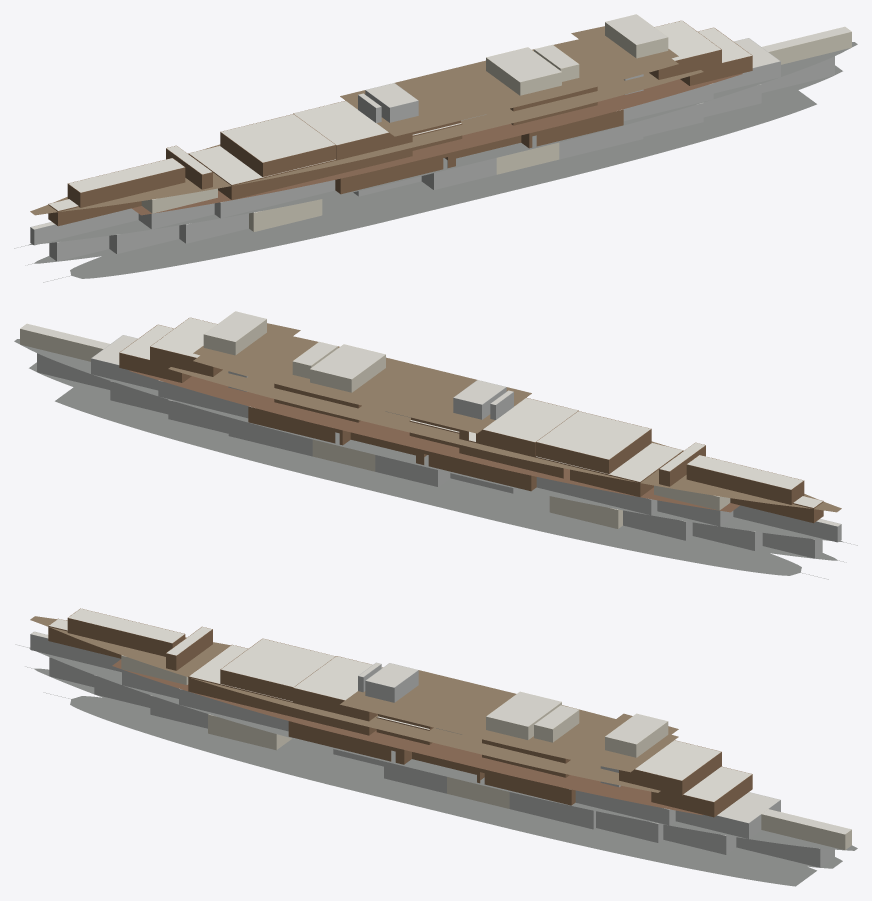
File: Interiors_Structure.glb
3 renders of one model, top to bottom at view 1: azimuth 30°, elevation 25°; view 2: azimuth 150°, elevation 25°; view 3: azimuth 330°, elevation 25°, orthographic.
Visible parts, largest first — view 1: Interior_Rooms, Interior_Floors; view 2: Interior_Rooms, Interior_Floors; view 3: Interior_Rooms, Interior_Floors.
Part boxes in pixels (<box>): Interior_Rooms: <box>30,14,851,261</box>; Interior_Floors: <box>14,26,857,282</box>; Interior_Rooms: <box>20,311,841,558</box>; Interior_Floors: <box>14,323,857,579</box>; Interior_Rooms: <box>30,608,851,867</box>; Interior_Floors: <box>15,616,857,886</box>.
Size of the model in its own units: 575 by 70.54 by 65.29.
